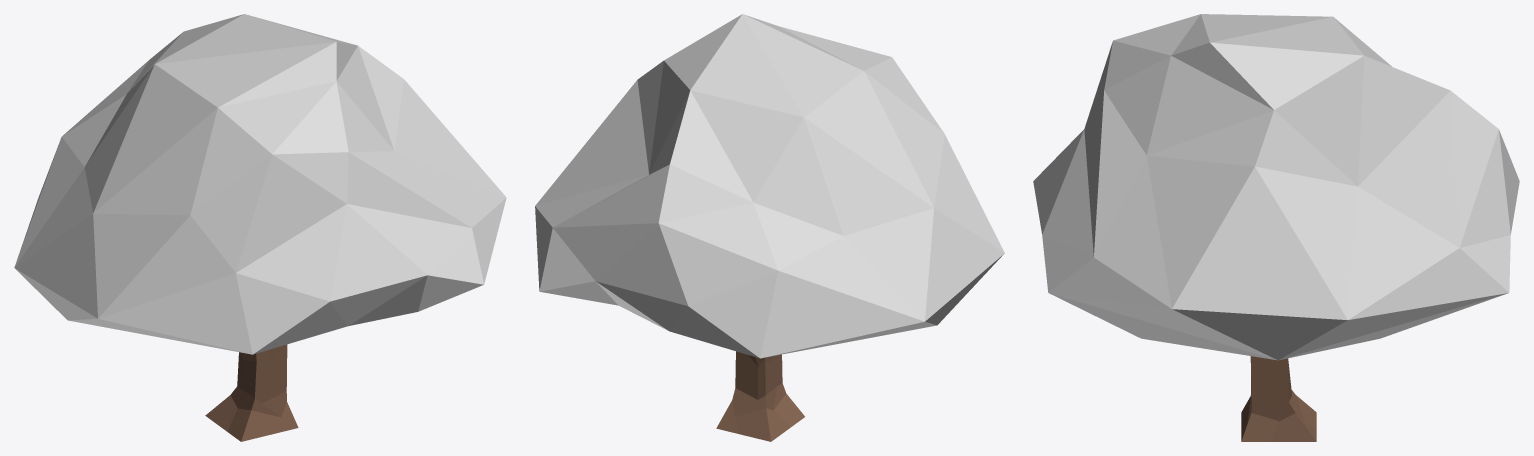
The model's file is Tree_24_White.fbx.
3 views of the same model, side by side, from view 1: azimuth 30°, elevation 25°; view 2: azimuth 150°, elevation 25°; view 3: azimuth 270°, elevation 25° (orthographic). The views are drawn at different scales.
Parts seen in each view (by area): view 1: Tree_24_White_Part_1, Tree_24_White_Part_2; view 2: Tree_24_White_Part_1, Tree_24_White_Part_2; view 3: Tree_24_White_Part_1, Tree_24_White_Part_2.
Part boxes in pixels (bbox=[...]): Tree_24_White_Part_1: bbox=[14, 14, 506, 354]; Tree_24_White_Part_2: bbox=[205, 344, 298, 441]; Tree_24_White_Part_1: bbox=[535, 14, 1004, 358]; Tree_24_White_Part_2: bbox=[716, 351, 804, 441]; Tree_24_White_Part_1: bbox=[1033, 14, 1519, 360]; Tree_24_White_Part_2: bbox=[1241, 356, 1316, 441].
Size of the model in its own units: 806 by 738 by 791.
